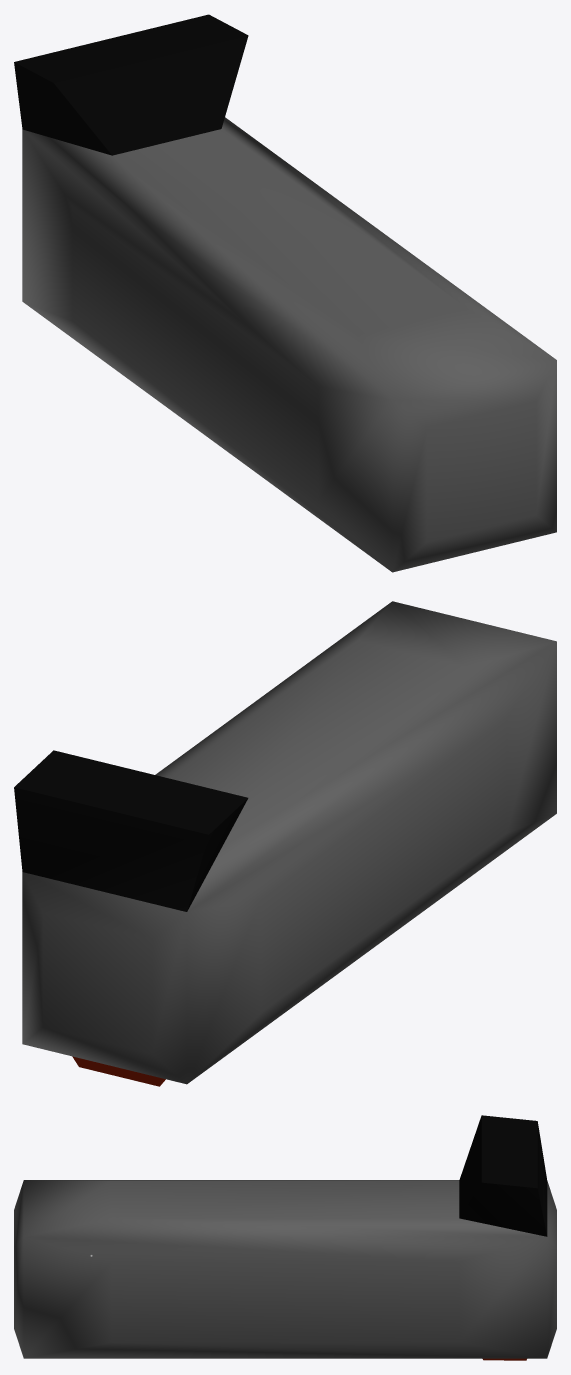
The model's file is scanner.fbx.
3 renders of one model, top to bottom at view 1: azimuth 30°, elevation 25°; view 2: azimuth 150°, elevation 25°; view 3: azimuth 270°, elevation 25°, orthographic. The views are drawn at different scales.
Parts seen in each view (by area): view 1: scanner; view 2: scanner; view 3: scanner.
Part boxes in pixels (x1,y1,x2,y2): scanner: (14, 14, 556, 572); scanner: (14, 601, 556, 1086); scanner: (14, 1115, 556, 1360).
Size of the model in its own units: 43.46 by 60.87 by 148.
Materials: 1 (1 with a texture image).
